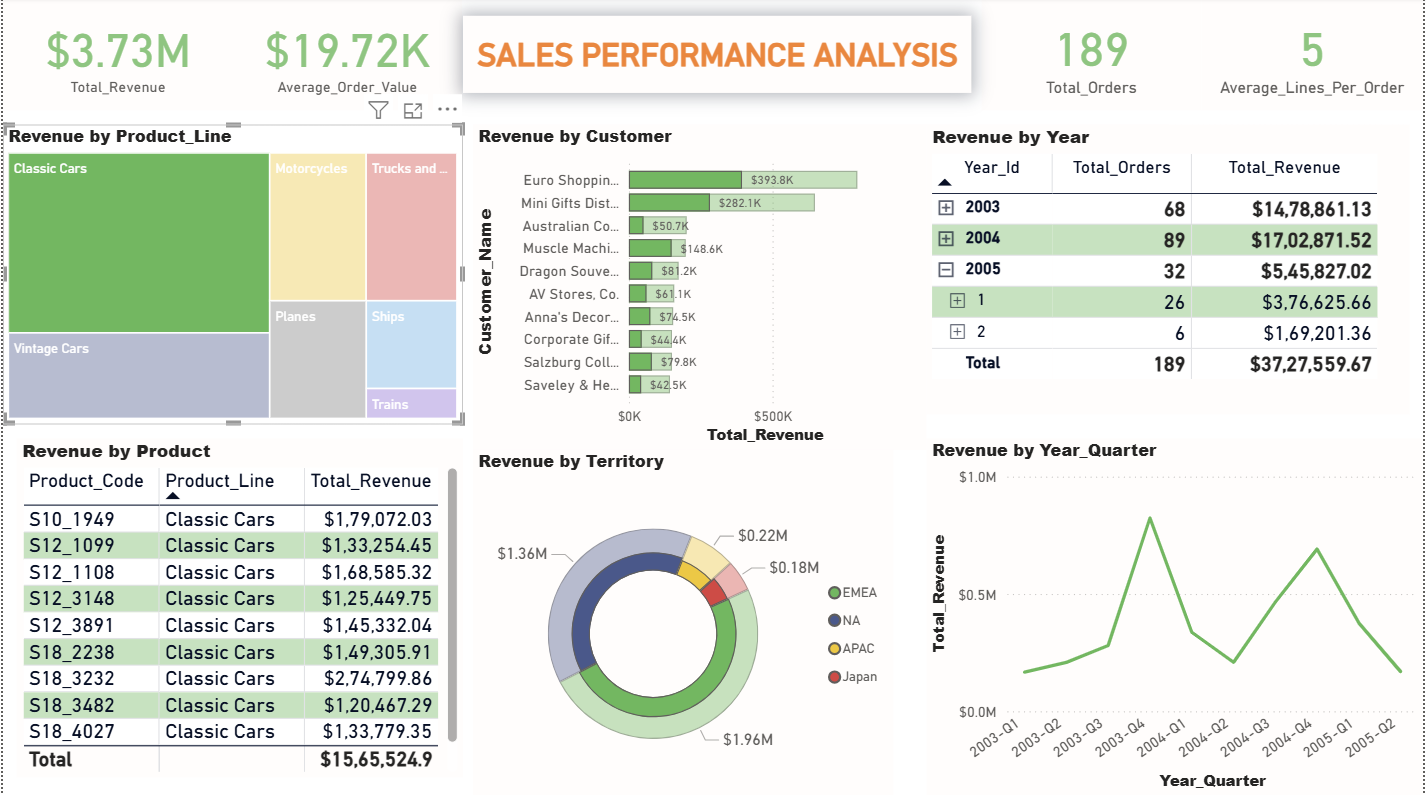

The dashboard page shown, as its layout file describes it:
{"tool":"powerbi","page":{"name":"Page 1","canvas":[1280,720],"ordinal":0},"visuals":[{"type":"card","fields":{"Values":["_Measure.Average_Lines_Per_Order"]},"box":[1081,0,199.3,102.7],"z":0},{"type":"card","fields":{"Values":["_Measure.Total_Revenue"]},"box":[0,0,207.9,102.7],"z":1000},{"type":"card","fields":{"Values":["_Measure.Total_Orders"]},"box":[882.9,0,198.1,102.7],"z":2000},{"type":"card","fields":{"Values":["_Measure.Average_Order_Value"]},"box":[207.9,0,206.7,102.7],"z":3000},{"type":"clusteredBarChart","title":"Revenue by Customer","fields":{"Y":["_Measure.Total_Revenue"],"Category":["Sales.Customer_Name"]},"box":[424.3,114.9,408.4,293.5],"z":5000},{"type":"pivotTable","title":"Revenue by Year","fields":{"Rows":["Sales.Year_Id","Sales.Quarter_Id","Sales.Month_Id"],"Values":["_Measure.Total_Orders","_Measure.Total_Revenue"]},"box":[832.7,114.9,435.3,261.7],"z":6000},{"type":"lineChart","title":"Revenue by Year_Quarter","fields":{"Category":["Sales.Year_Quarter"],"Y":["_Measure.Total_Revenue"]},"box":[832.7,397.4,447.6,322.8],"z":7000},{"type":"treemap","title":"Revenue by Product_Line","fields":{"Group":["Sales.Product_Line"],"Values":["_Measure.Total_Revenue"]},"box":[0,114.9,414.5,270.2],"z":8000},{"type":"tableEx","title":"Revenue by Product","fields":{"Values":["Sales.Product_Code","Sales.Product_Line","_Measure.Total_Revenue"]},"box":[12.2,397.4,402.3,305.7],"z":9000},{"type":"donutChart","title":"Revenue by Territory","fields":{"Category":["Sales.Territory"],"Y":["_Measure.Total_Revenue"]},"box":[424.3,408.4,379.1,311.8],"z":10000},{"type":"textbox","box":[414.8,16.9,458.7,69.9],"z":11000}]}

Visuals, with their boxes in screenshot pixels (x1, y1, x2, y2), scaled from the page's 1280x720 canvas onto the 1426x795 screenshot:
card - _Measure.Average_Lines_Per_Order: {"left": 1204, "top": 0, "right": 1425, "bottom": 113}
card - _Measure.Total_Revenue: {"left": 0, "top": 0, "right": 232, "bottom": 113}
card - _Measure.Total_Orders: {"left": 984, "top": 0, "right": 1204, "bottom": 113}
card - _Measure.Average_Order_Value: {"left": 232, "top": 0, "right": 462, "bottom": 113}
"Revenue by Customer" clusteredBarChart: {"left": 473, "top": 127, "right": 928, "bottom": 451}
"Revenue by Year" pivotTable: {"left": 928, "top": 127, "right": 1413, "bottom": 416}
"Revenue by Year_Quarter" lineChart: {"left": 928, "top": 439, "right": 1425, "bottom": 794}
"Revenue by Product_Line" treemap: {"left": 0, "top": 127, "right": 462, "bottom": 425}
"Revenue by Product" tableEx: {"left": 14, "top": 439, "right": 462, "bottom": 776}
"Revenue by Territory" donutChart: {"left": 473, "top": 451, "right": 895, "bottom": 794}
textbox: {"left": 462, "top": 19, "right": 973, "bottom": 96}
